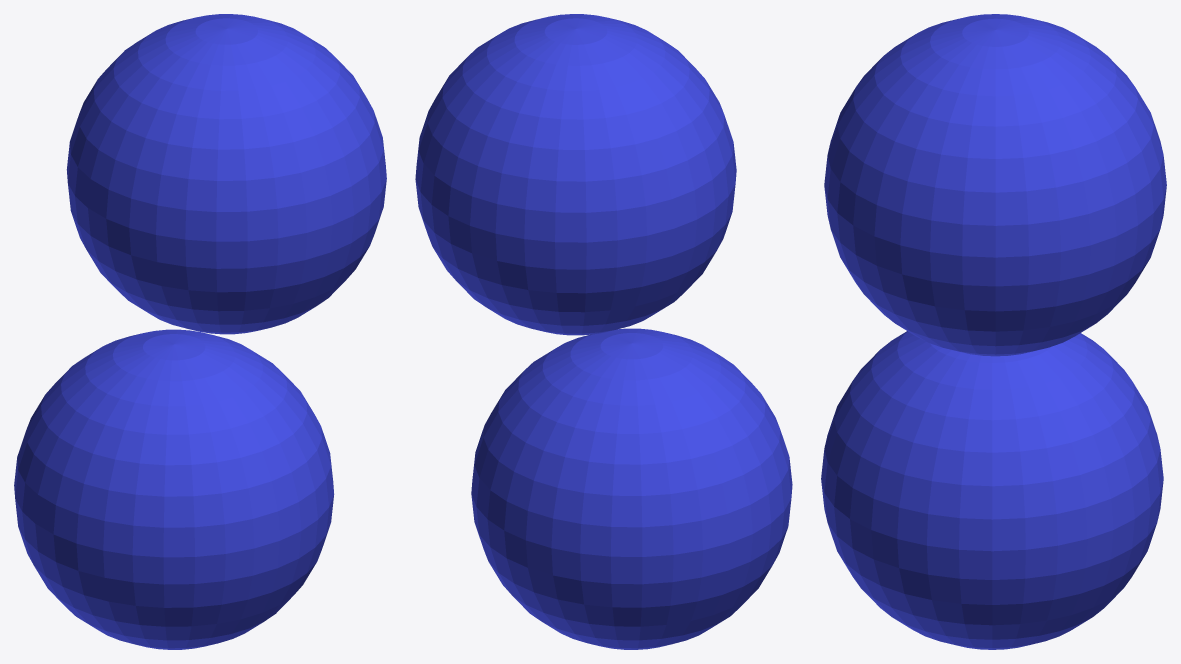
The model's file is animation_2.glb.
The picture shows the model from 3 angles, left to right: view 1: azimuth 30°, elevation 25°; view 2: azimuth 150°, elevation 25°; view 3: azimuth 270°, elevation 25°; orthographic projection. The views are drawn at different scales.
Visible parts, largest first — view 1: Sphere, Sphere.001; view 2: Sphere, Sphere.001; view 3: Sphere, Sphere.001.
Boxes of the visible parts, box(x1,y1,x2,y2) form: Sphere: box(66, 14, 386, 334); Sphere.001: box(14, 329, 334, 649); Sphere: box(415, 14, 736, 335); Sphere.001: box(471, 328, 792, 649); Sphere: box(824, 14, 1166, 356); Sphere.001: box(821, 331, 1163, 649).
Bounding box in the file's own units: 2.39 × 4.07 × 2.02.
